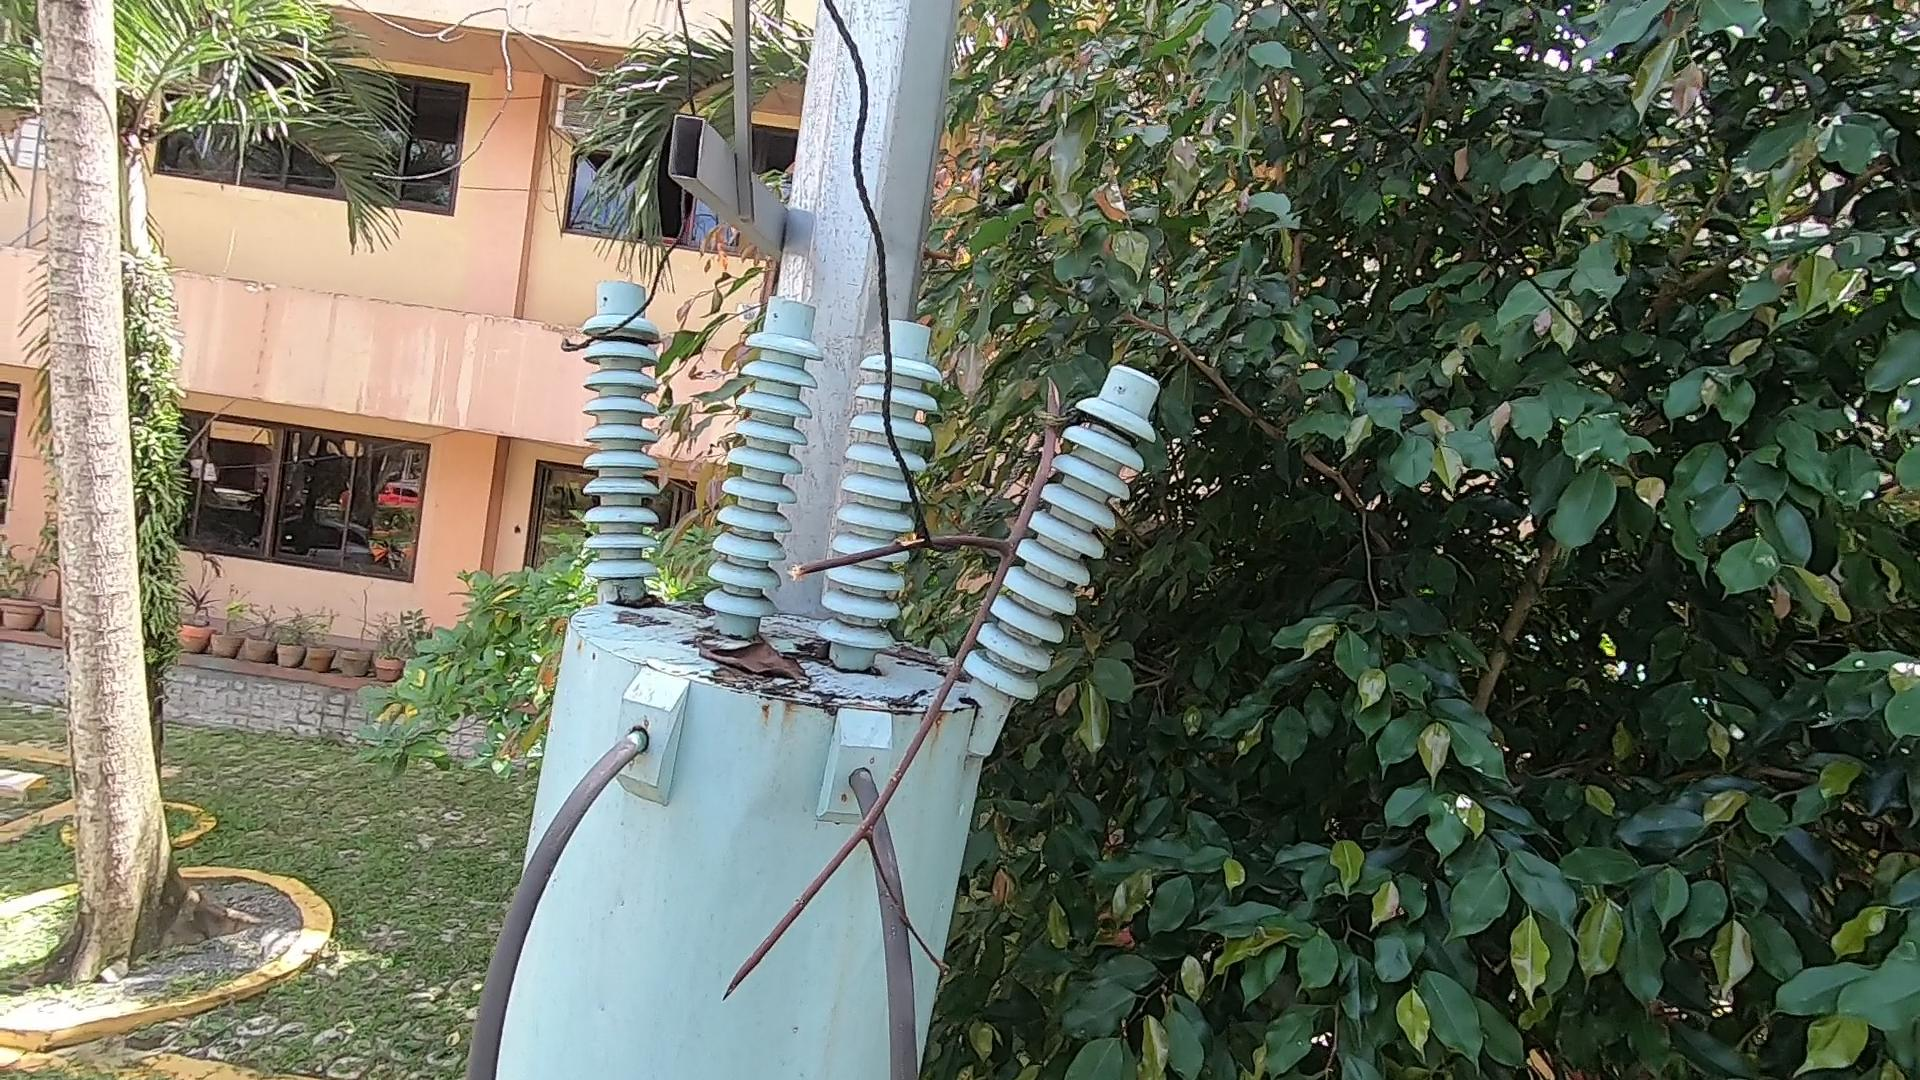leaf: (698, 626, 819, 716)
tree branch: (688, 377, 1092, 1018)
